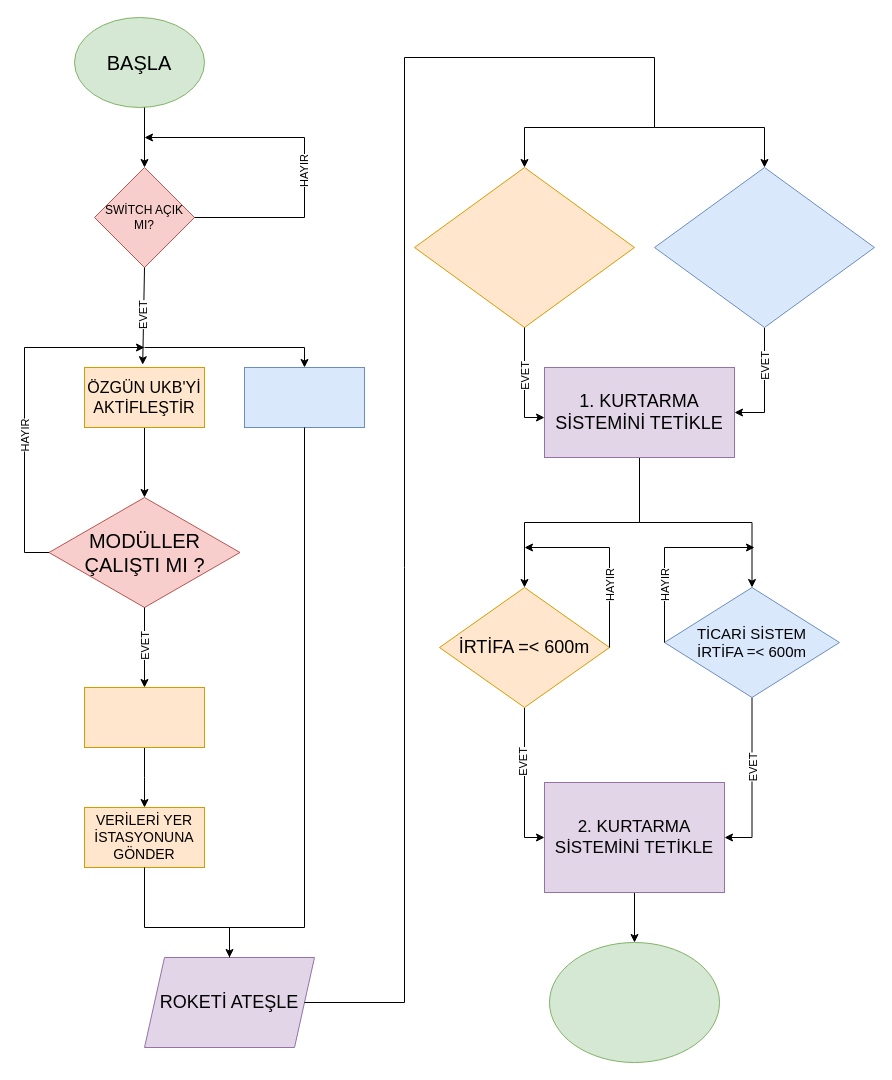
This 892x1080 diagram has some shape labels left out. The centre of each missing label's shape, as x and y in pixels:
"BİTİR" belongs at (634,1002).
"MAKS. İRTİFA - ANLIK İRTİFA >15m && AÇI < 85" belongs at (524,247).
"SENSÖR OPTİMİZASYONU GERÇEKLEŞTİR" belongs at (144,717).
"TİCARİ SİSTEM MAKS. İRTİFA- ANLIK İRTİFA>25m" belongs at (764,247).
"TİCARİ UKB'Yİ AKTİFLEŞTİR" belongs at (304,397).
